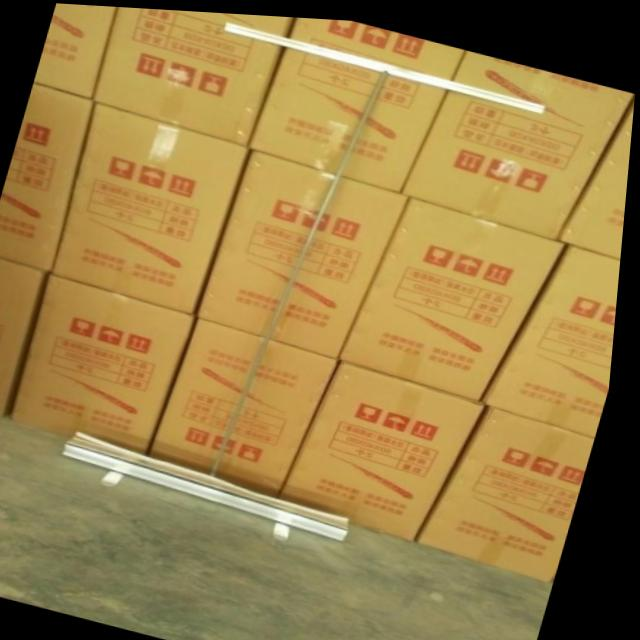box: (344, 192, 570, 395), (403, 45, 636, 234), (201, 147, 412, 355), (56, 101, 252, 312), (286, 357, 493, 536), (156, 315, 346, 494), (17, 273, 202, 453), (424, 399, 602, 575), (249, 43, 450, 189), (94, 5, 294, 144), (488, 236, 625, 430), (0, 83, 97, 272), (561, 92, 636, 251), (288, 14, 466, 75), (0, 256, 52, 417), (36, 3, 117, 98)
